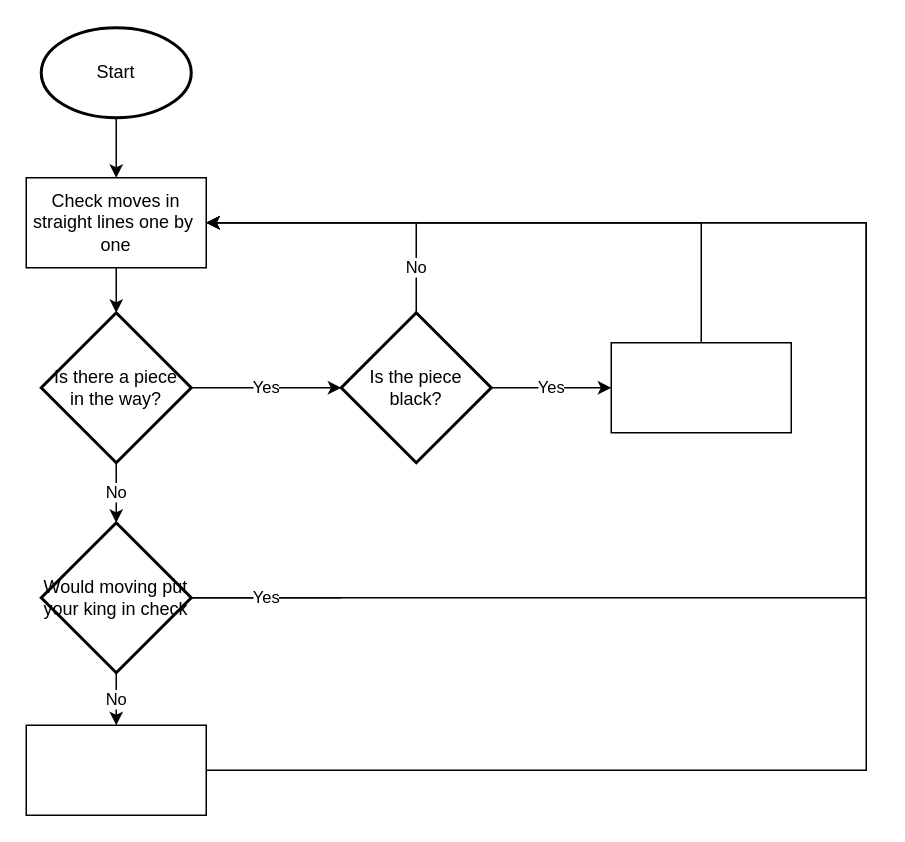
Some shapes in this 905 by 842 pixel diagram are drawn without their labels. The shapes that lost their labels are listed below. From the top down, each one's box as (x1, y1, x2, y2) in pixels, then its label:
(610, 341, 791, 433): Valid move. Don't check further moves in directionl
(25, 724, 206, 815): Valid Move
